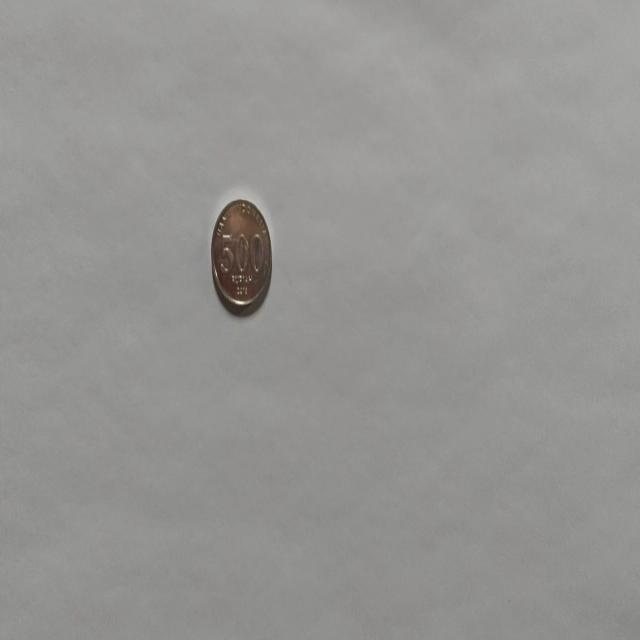lima ratus rupiah: (210, 196, 272, 316)
